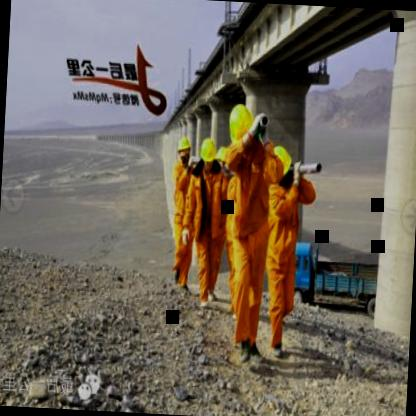helmet: (223, 98, 256, 152), (266, 141, 296, 188), (198, 130, 221, 172), (172, 130, 194, 168)
